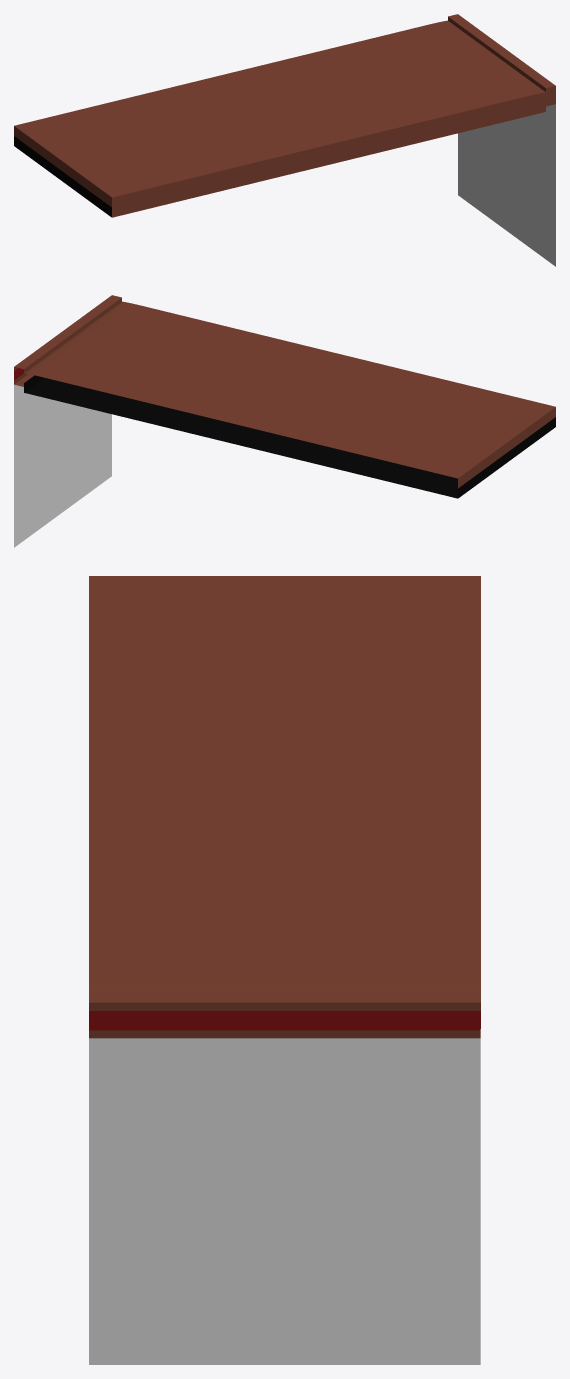
File: LibTable_Mid.fbx
3 views of the same model, one above another, from view 1: azimuth 30°, elevation 25°; view 2: azimuth 150°, elevation 25°; view 3: azimuth 270°, elevation 25° (orthographic). The views are drawn at different scales.
Parts seen in each view (by area): view 1: LibTable_Mid; view 2: LibTable_Mid; view 3: LibTable_Mid.
Part boxes in pixels (box(x1,y1,x2,y2)): LibTable_Mid: box(14, 14, 555, 266); LibTable_Mid: box(14, 295, 555, 547); LibTable_Mid: box(89, 576, 480, 1364).
Size of the model in its own units: 522 by 203 by 200.
